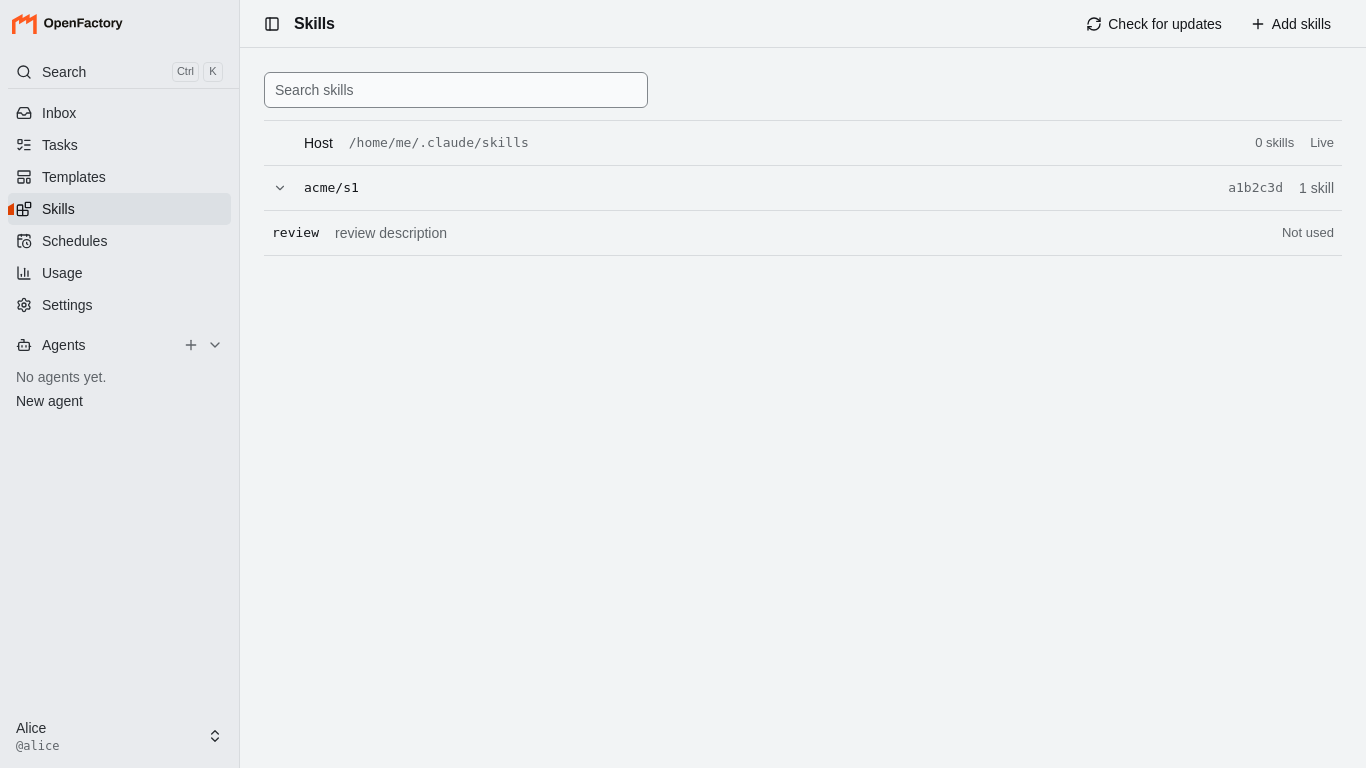
Test case: Runs code lists the frontmatter hooks, before Used by and Files
Click the button "review review description Not used" at (295,232), box [264,211,1342,255]
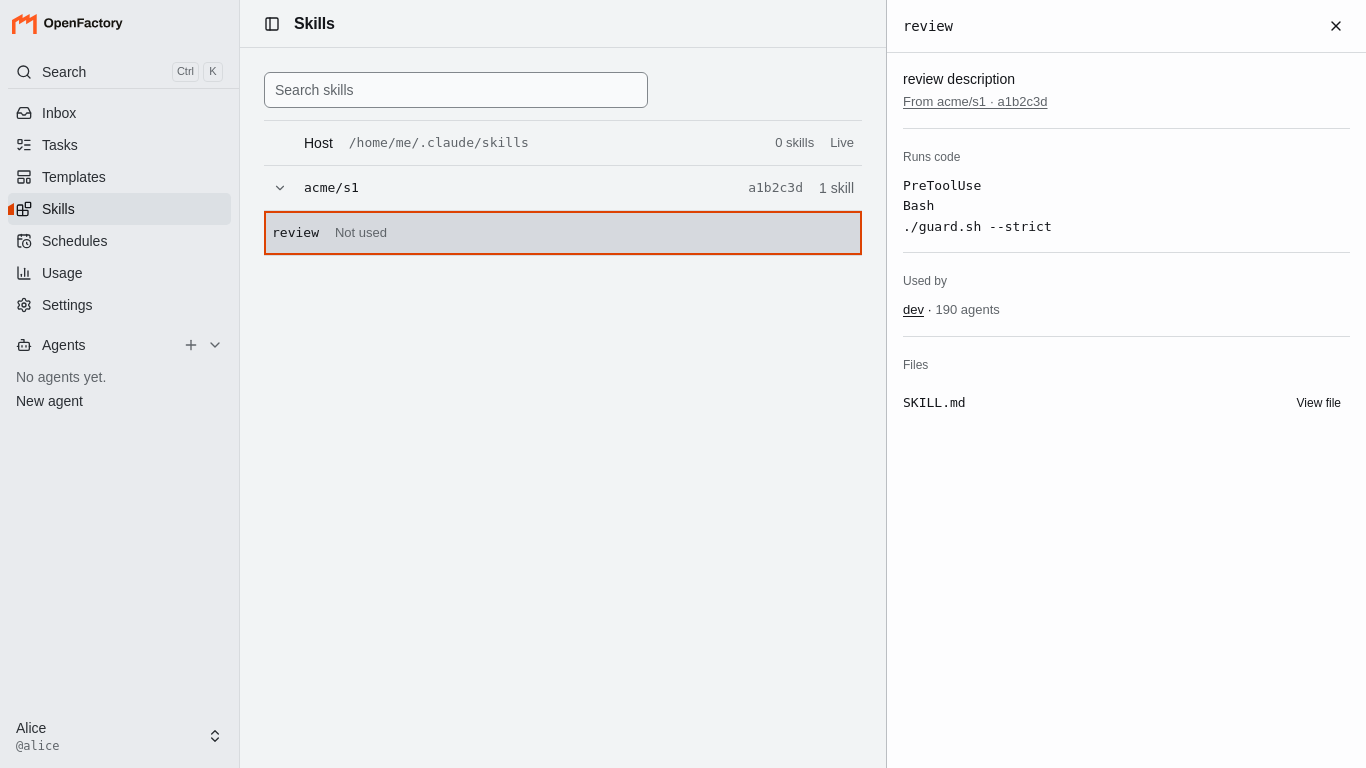
expect the heading named "review" is shown: met, box [902,17,953,34]
expect the text "./guard.sh --strict" is shown: met, box [903,219,1052,234]
expect the headings read "Runs code", "Used by", "Files", in this order: met, box [903,149,960,165]; [903,273,947,289]; [903,357,928,373]
